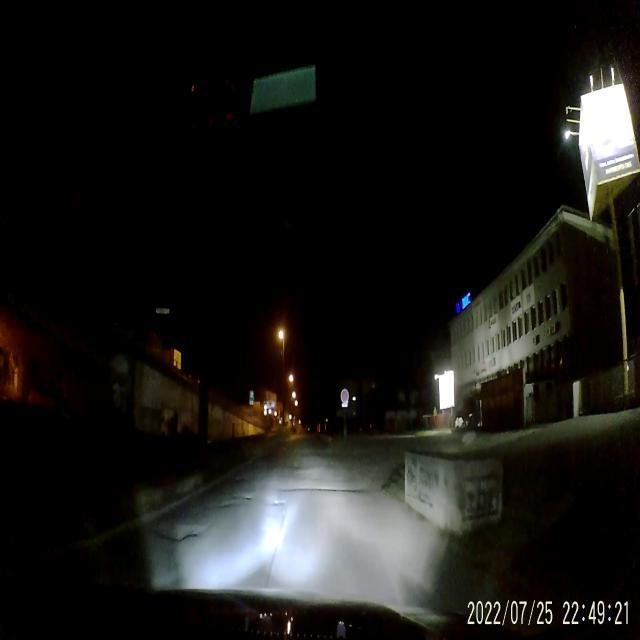Pothole: (160, 520, 207, 546), (280, 483, 368, 495), (221, 492, 255, 510), (272, 496, 288, 508), (233, 475, 248, 487)
